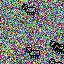sheep: (21, 3, 37, 15), (26, 46, 40, 59), (49, 59, 63, 64)
